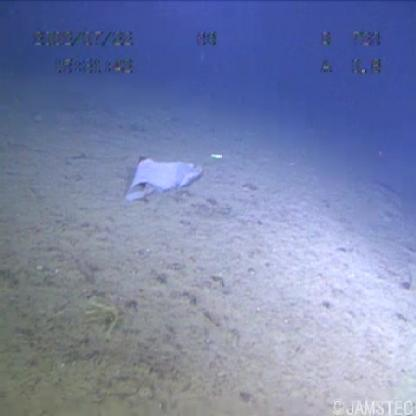Rác: (119, 155, 211, 203)
